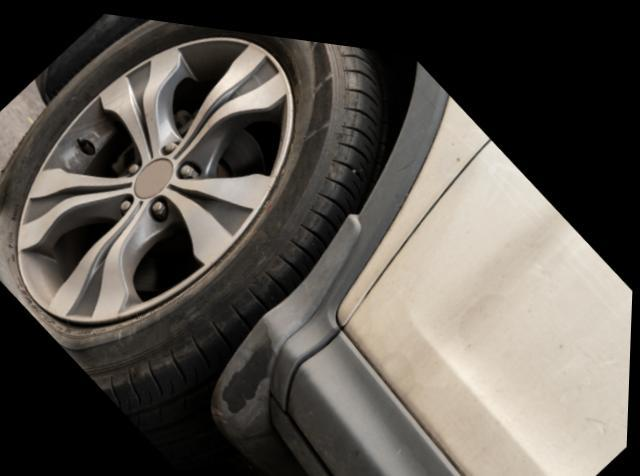tire flat: (0, 16, 383, 415)
